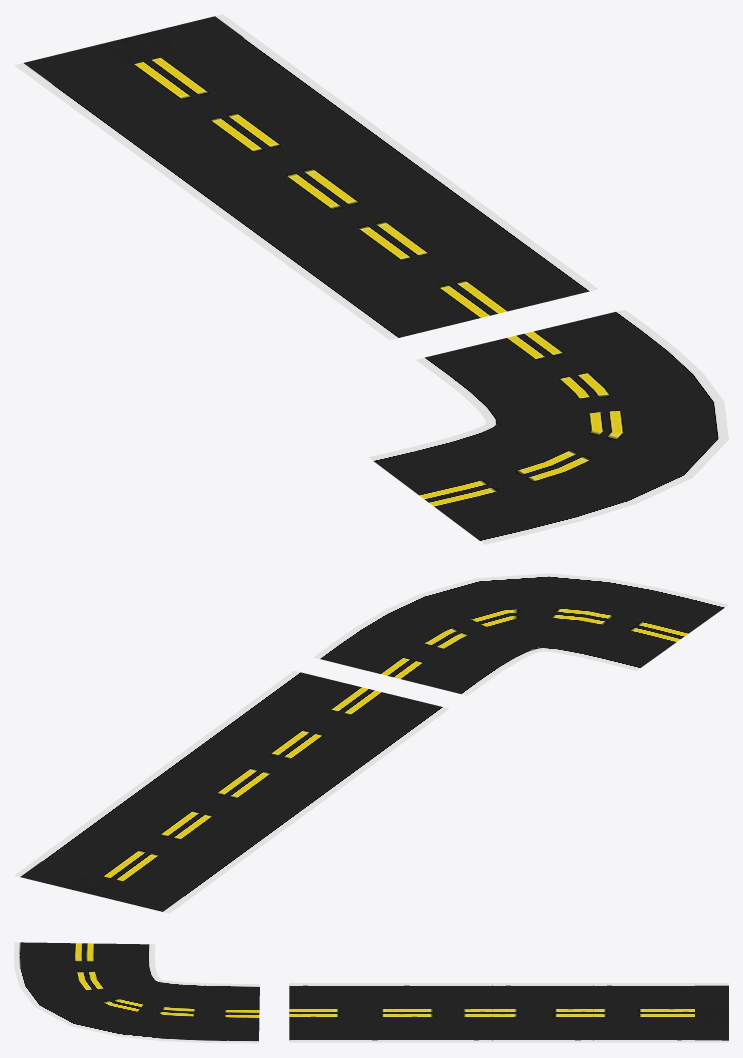
The picture shows the model from 3 angles, top to bottom: view 1: azimuth 30°, elevation 25°; view 2: azimuth 150°, elevation 25°; view 3: azimuth 270°, elevation 25°; orthographic projection. The views are drawn at different scales.
Parts seen in each view (by area): view 1: Plane002, Tube_1; view 2: Plane002, Tube_1; view 3: Plane002, Tube_1.
Part boxes in pixels (x1,y1,x2,y2): Plane002: [14, 14, 598, 339]; Tube_1: [369, 309, 728, 544]; Plane002: [14, 670, 449, 913]; Tube_1: [313, 573, 728, 695]; Plane002: [289, 983, 728, 1042]; Tube_1: [14, 942, 259, 1043].
Size of the model in its own units: 153 by 1.2 by 465.
Materials: 4 (4 with a texture image).
